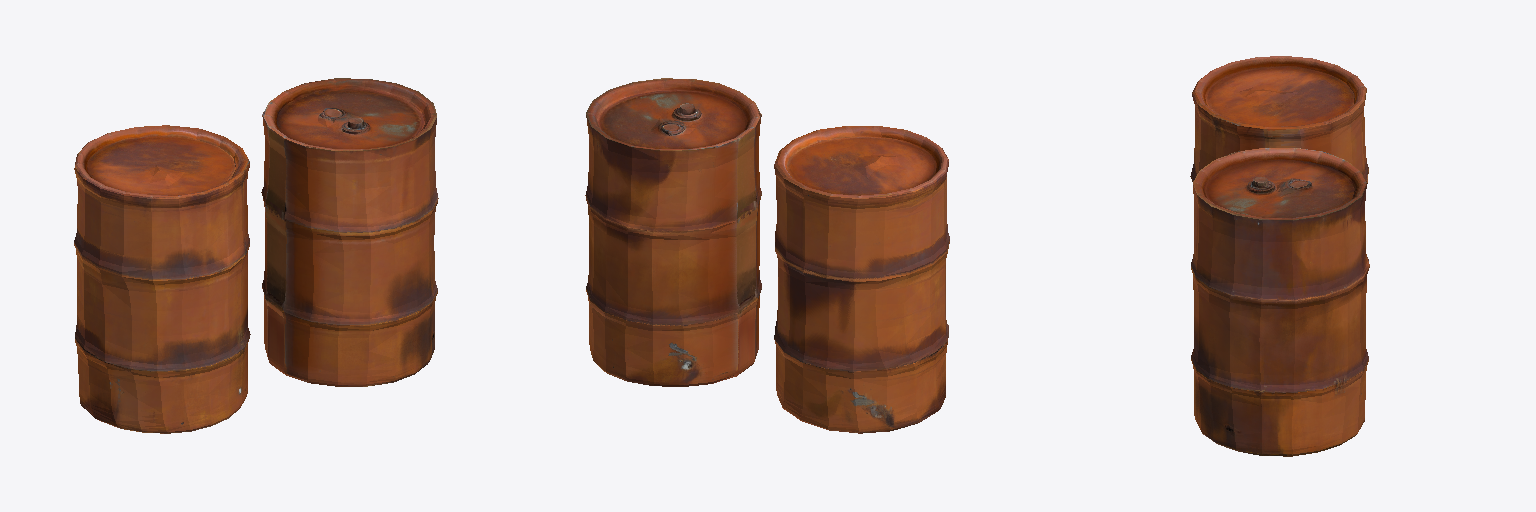
The picture shows the model from 3 angles: view 1: azimuth 30°, elevation 25°; view 2: azimuth 150°, elevation 25°; view 3: azimuth 270°, elevation 25°; orthographic projection.
Visible parts, largest first — view 1: Barrels_in_Sunlight_[number redacted]_texture; view 2: Barrels_in_Sunlight_[number redacted]_texture; view 3: Barrels_in_Sunlight_[number redacted]_texture.
Boxes of the visible parts, box(x1,y1,x2,y2) form: Barrels_in_Sunlight_[number redacted]_texture: box(74, 78, 438, 433); Barrels_in_Sunlight_[number redacted]_texture: box(585, 78, 949, 433); Barrels_in_Sunlight_[number redacted]_texture: box(1190, 56, 1369, 456).
Bounding box in the file's own units: 1.9 × 1.29 × 0.8686.
1 materials, 1 textured.